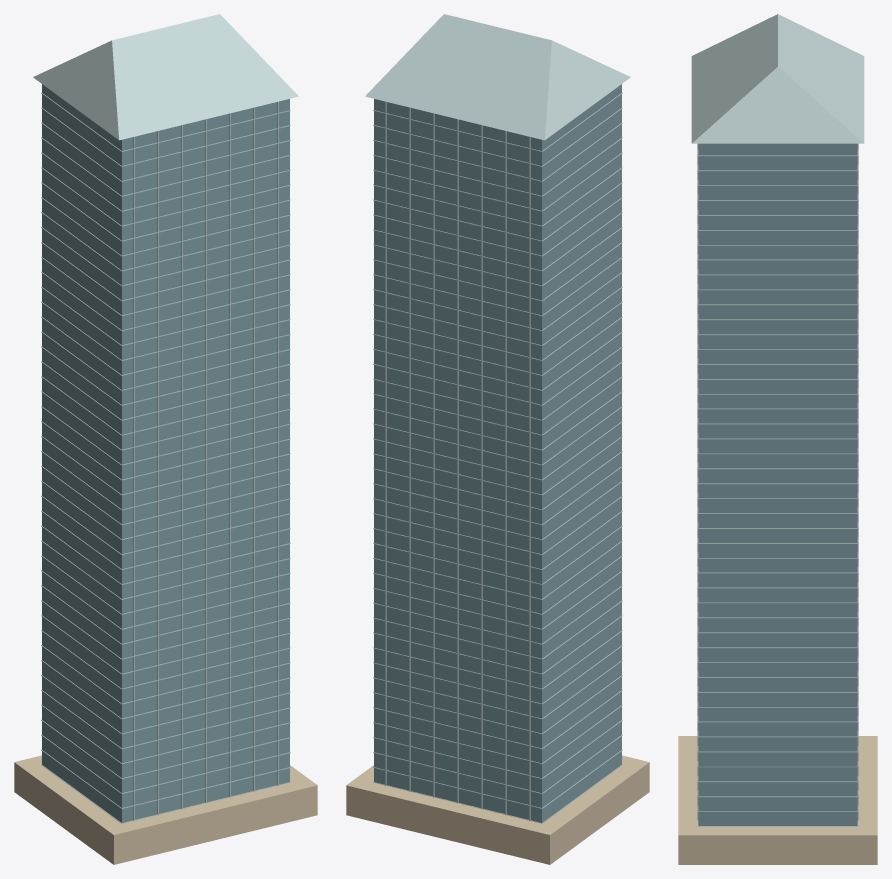
File: bank-china-pudong.glb
3 views of the same model, side by side, from view 1: azimuth 30°, elevation 25°; view 2: azimuth 150°, elevation 25°; view 3: azimuth 270°, elevation 25° (orthographic).
Visible parts, largest first — view 1: bank-china-pudong; view 2: bank-china-pudong; view 3: bank-china-pudong.
Boxes of the visible parts, <box> form: bank-china-pudong: <box>14,14,317,864</box>; bank-china-pudong: <box>346,14,649,864</box>; bank-china-pudong: <box>678,14,877,864</box>.
Size of the model in its own units: 70.93 by 258 by 60.04.
